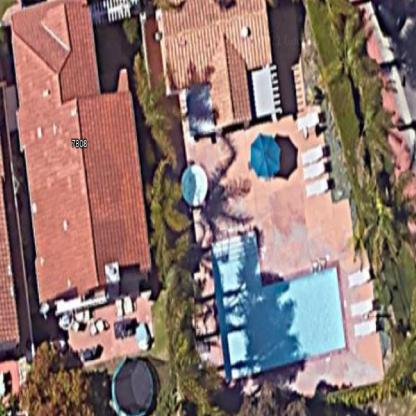pool: (204, 222, 354, 391)
